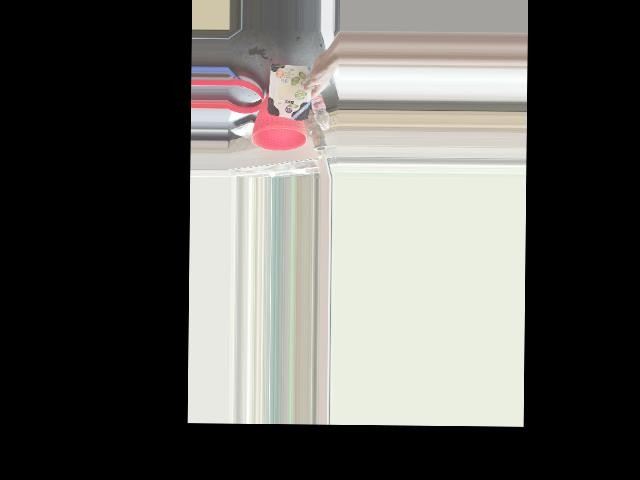cheese: (267, 68, 321, 121)
